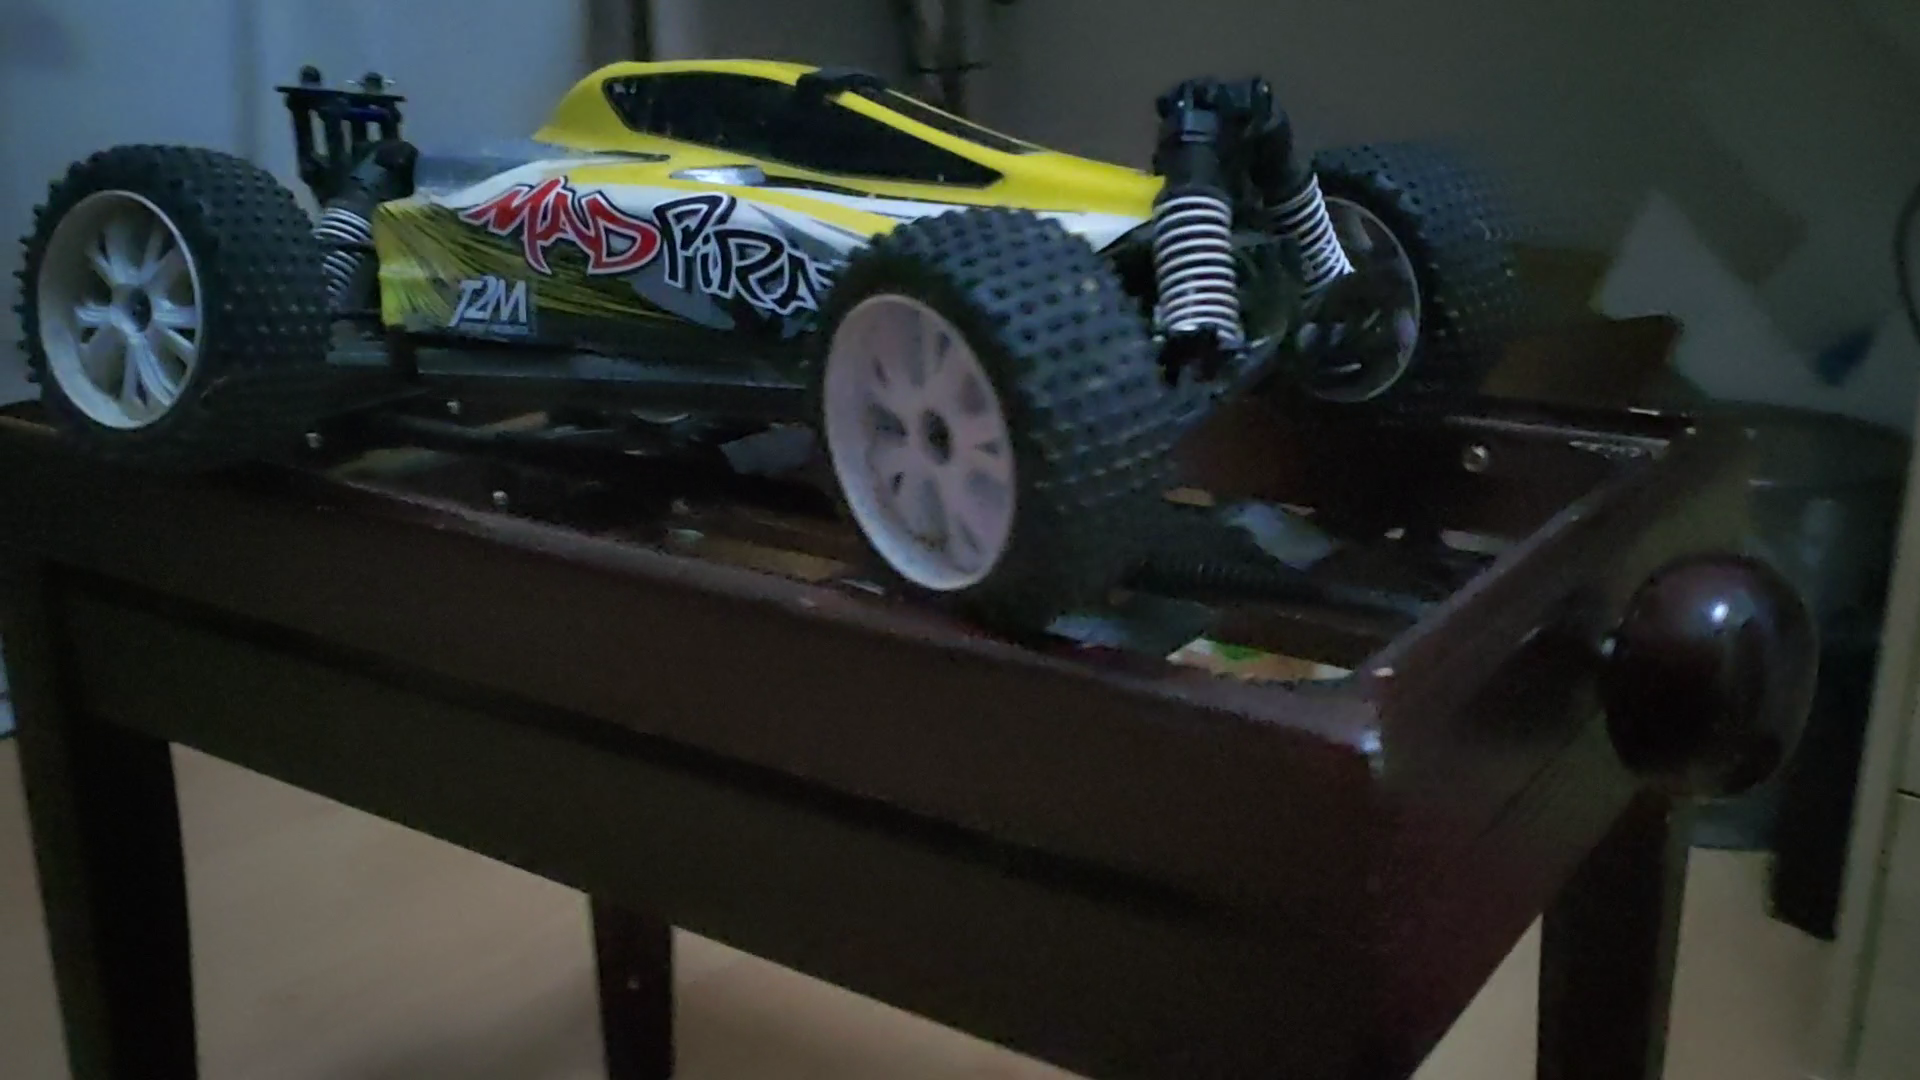buggy: (1, 59, 1522, 626)
